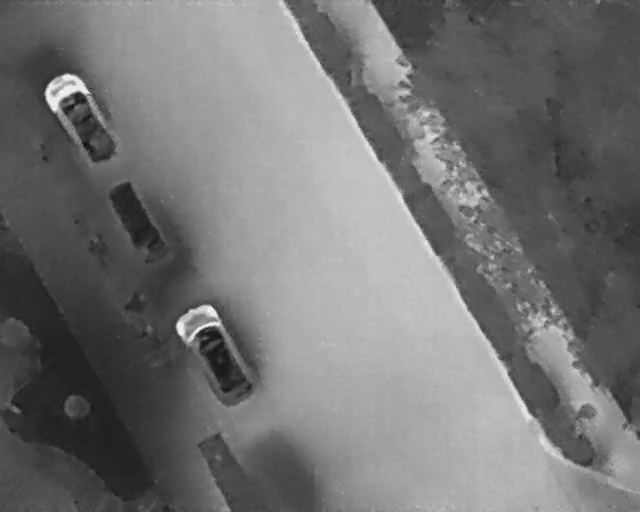Car: (165, 296, 263, 418), (36, 62, 126, 174), (99, 172, 180, 277)
